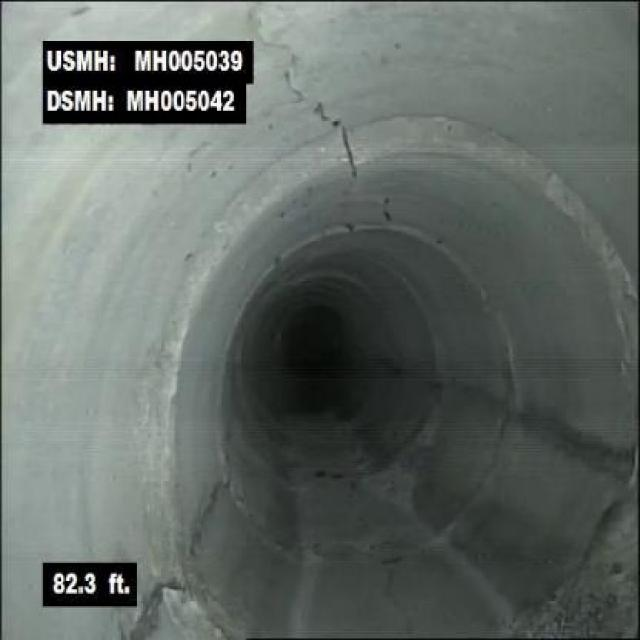Crack: (246, 6, 340, 126), (188, 477, 228, 577), (131, 577, 183, 638), (382, 564, 424, 638), (340, 125, 360, 177)
Joint offset: (363, 112, 577, 178), (556, 183, 636, 300), (217, 138, 314, 217), (162, 223, 223, 315)
